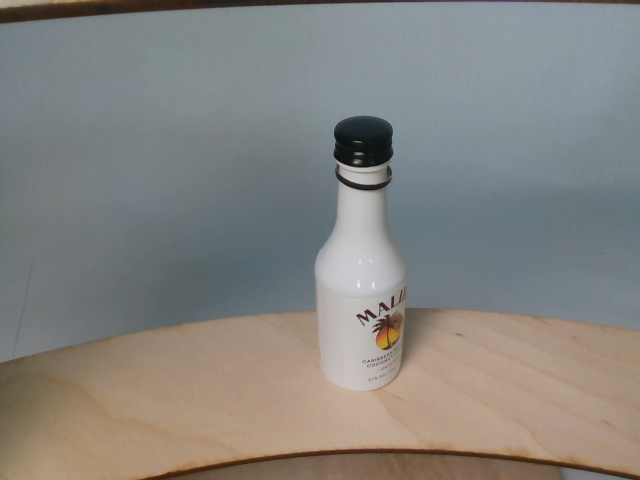tequila: (310, 115, 411, 393)
